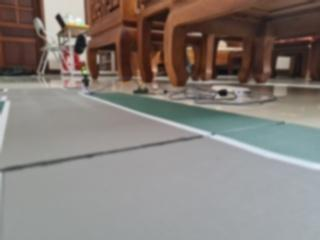green: (76, 55, 93, 86)
